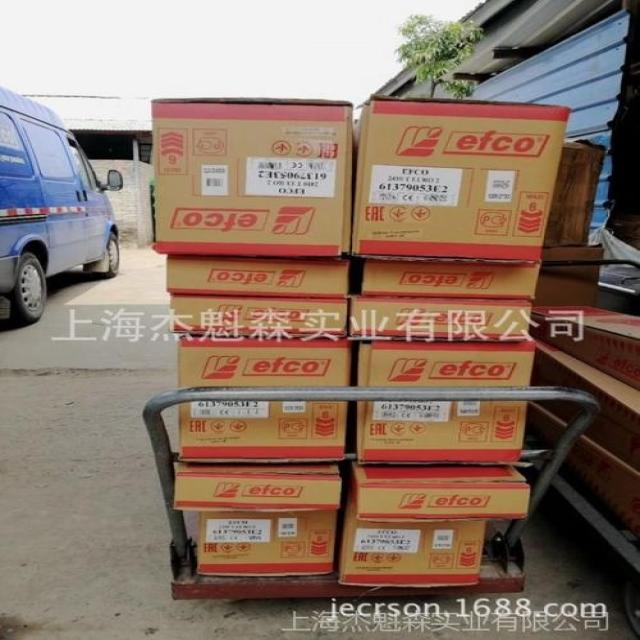box: (350, 92, 566, 262), (158, 99, 349, 256), (175, 336, 350, 464), (354, 340, 531, 465), (528, 345, 639, 534), (338, 494, 490, 586), (342, 460, 527, 519), (532, 303, 639, 391), (195, 507, 339, 571), (171, 461, 339, 512), (351, 293, 535, 338), (169, 292, 352, 337), (164, 257, 351, 299), (361, 258, 543, 300), (542, 137, 606, 244), (532, 244, 605, 303)
